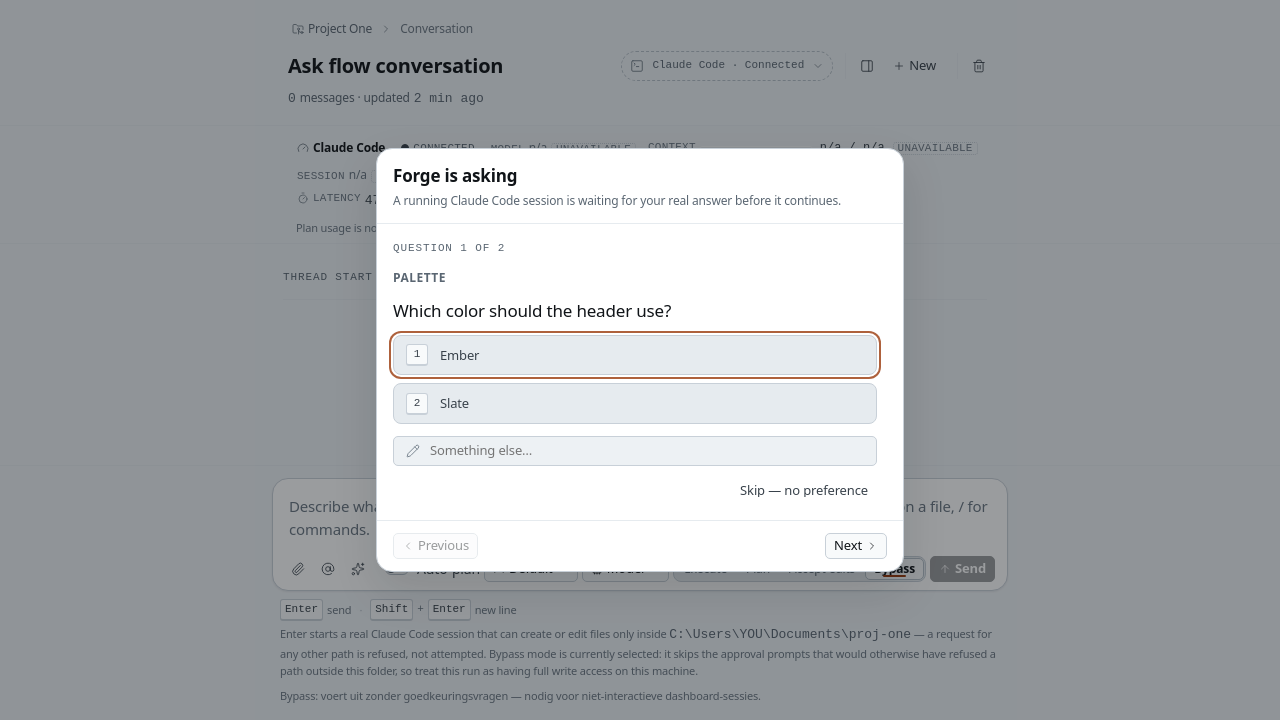
Test case: ChatView — "Forge is asking" question box › renders ONE question at a time (with its own options + an ALWAYS-present free-text field), pages to the next via "Review answers", and stays open with no close
Check: the dialog "Forge is asking" shows "Which color should the header use?", box [393,299,671,322]
Check: the button "1 Ember" is shown, box [393,334,877,375]
Click the button "Next": (856, 546) [825,533,887,559]
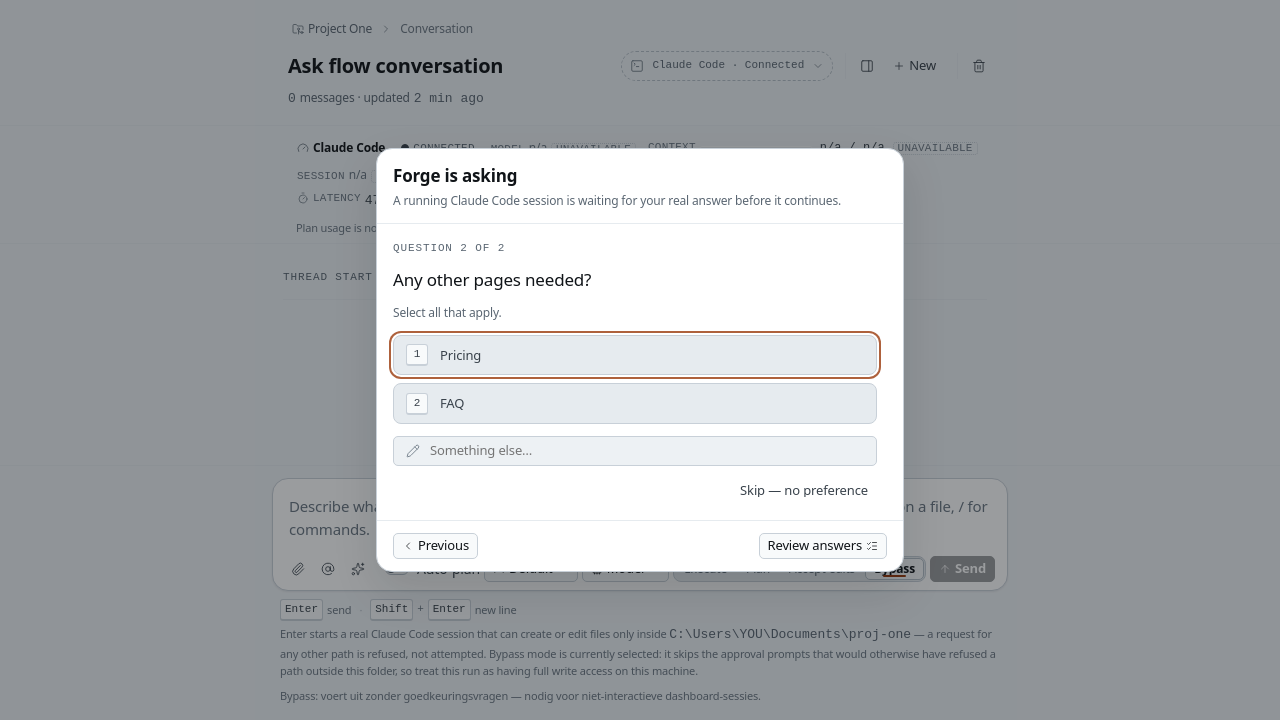
Check: the dialog "Forge is asking" shows "Any other pages needed?", box [393,268,591,291]
Check: the button "1 Pricing" is shown, box [393,334,877,375]
Check: the button "2 FAQ" is shown, box [393,383,877,424]
